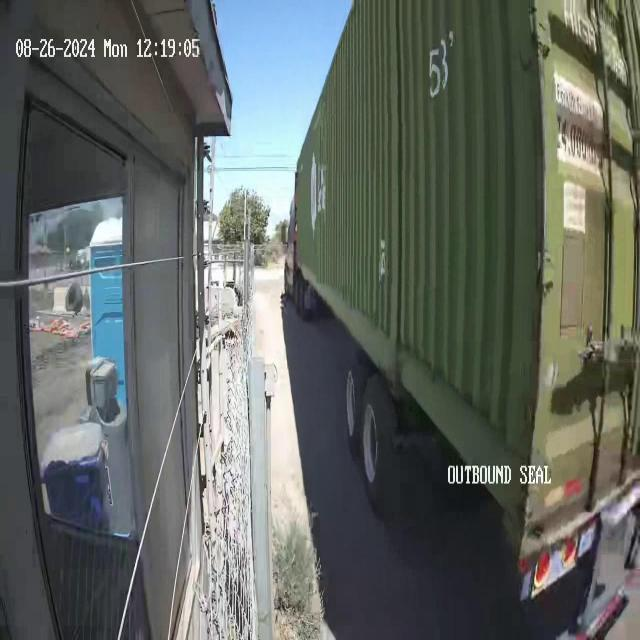TRUCK_OUT: (282, 1, 638, 631)
